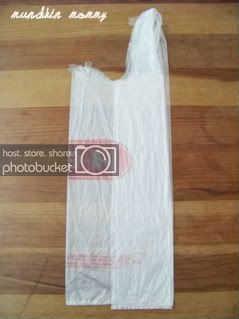plastic bag: (65, 8, 174, 310)
